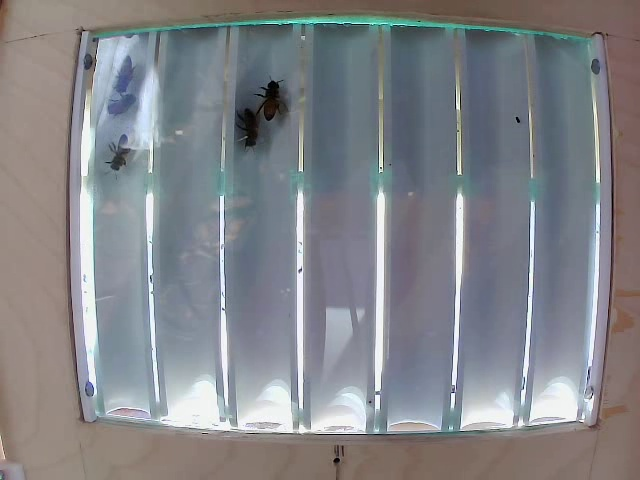bee: (260, 70, 293, 122), (227, 112, 265, 155), (119, 136, 153, 170), (103, 92, 137, 121), (106, 61, 136, 93)
